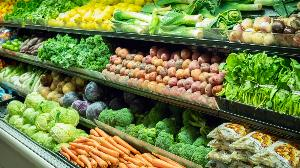bell_pepper: (0, 0, 18, 20)
carrot: (51, 134, 189, 168)
lemon: (48, 0, 142, 24)
lime: (1, 30, 25, 54)
